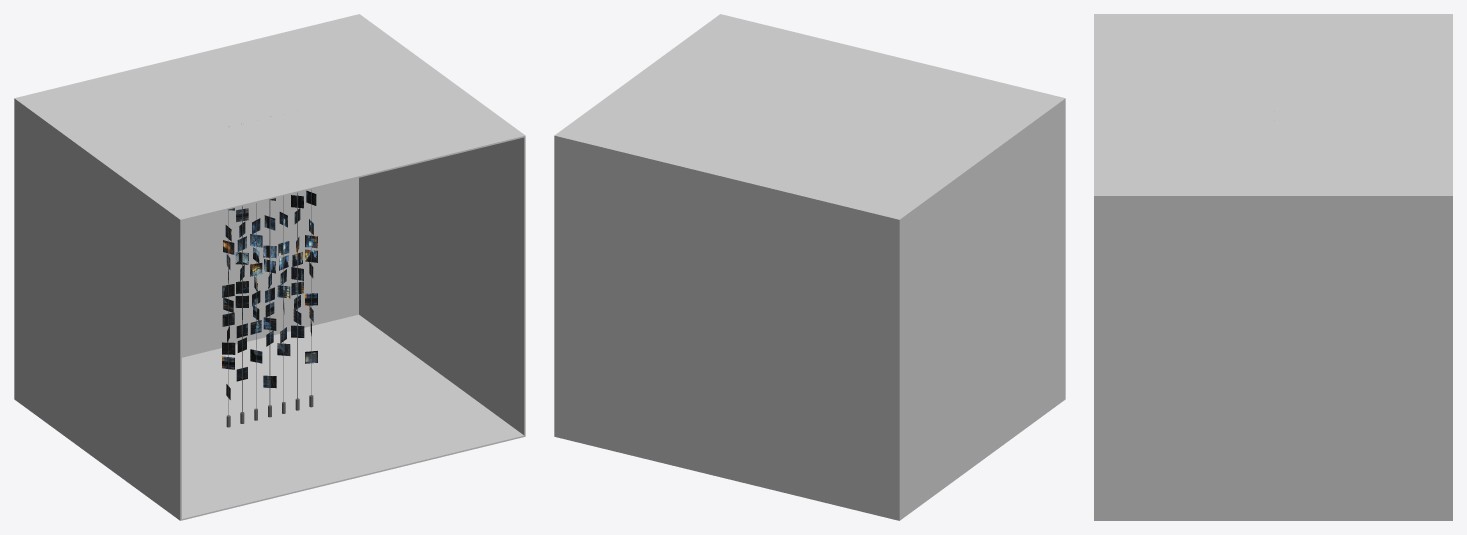
The model's file is vitrazh_scene.glb.
3 views of the same model, side by side, from view 1: azimuth 30°, elevation 25°; view 2: azimuth 150°, elevation 25°; view 3: azimuth 270°, elevation 25° (orthographic). The views are drawn at different scales.
Parts seen in each view (by area): view 1: Gallery_Room; view 2: Gallery_Room; view 3: Gallery_Room.
Part boxes in pixels (box(x1,y1,x2,y2)): Gallery_Room: box(14, 14, 525, 520); Gallery_Room: box(554, 14, 1065, 520); Gallery_Room: box(1094, 14, 1452, 520).
Size of the model in its own units: 12 by 10 by 10.
80 materials, 77 textured.
